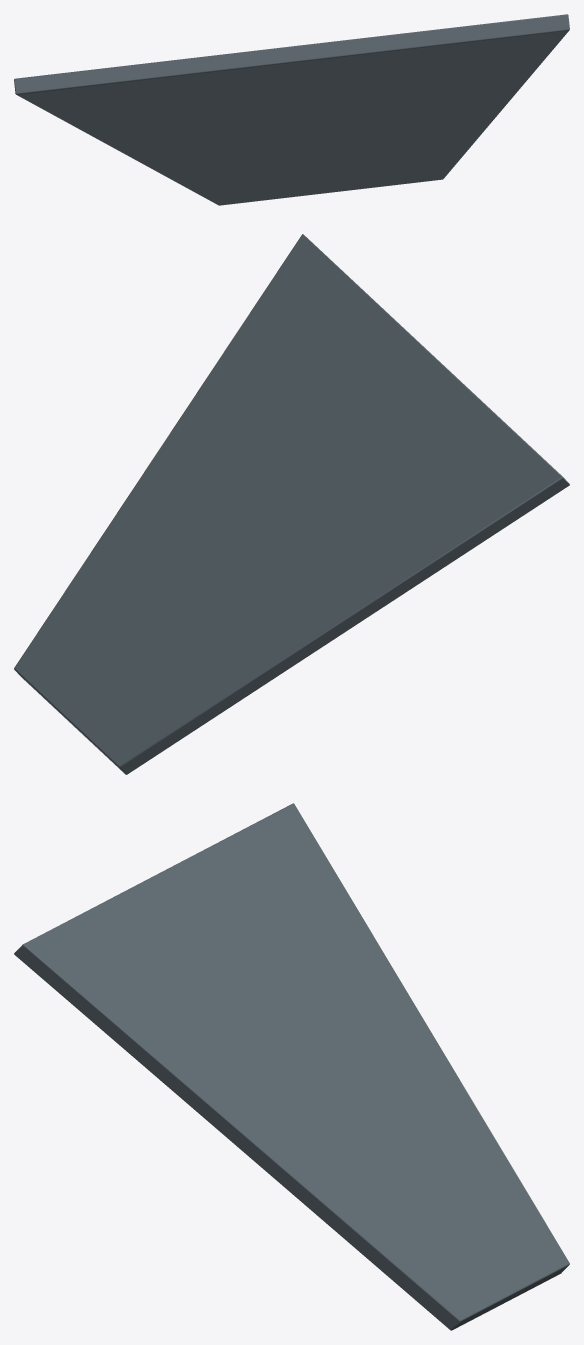
3 views of the same model, one above another, from view 1: azimuth 30°, elevation 25°; view 2: azimuth 150°, elevation 25°; view 3: azimuth 270°, elevation 25° (orthographic). The views are drawn at different scales.
Parts seen in each view (by area): view 1: Cube.014; view 2: Cube.014; view 3: Cube.014.
Part boxes in pixels (x1=…): Cube.014: x1=14, y1=14, x2=569, y2=205; Cube.014: x1=14, y1=234, x2=569, y2=774; Cube.014: x1=14, y1=803, x2=569, y2=1330.
Bounding box in the file's own units: 2.8 × 1.92 × 2.64.
1 material, 1 textured.
